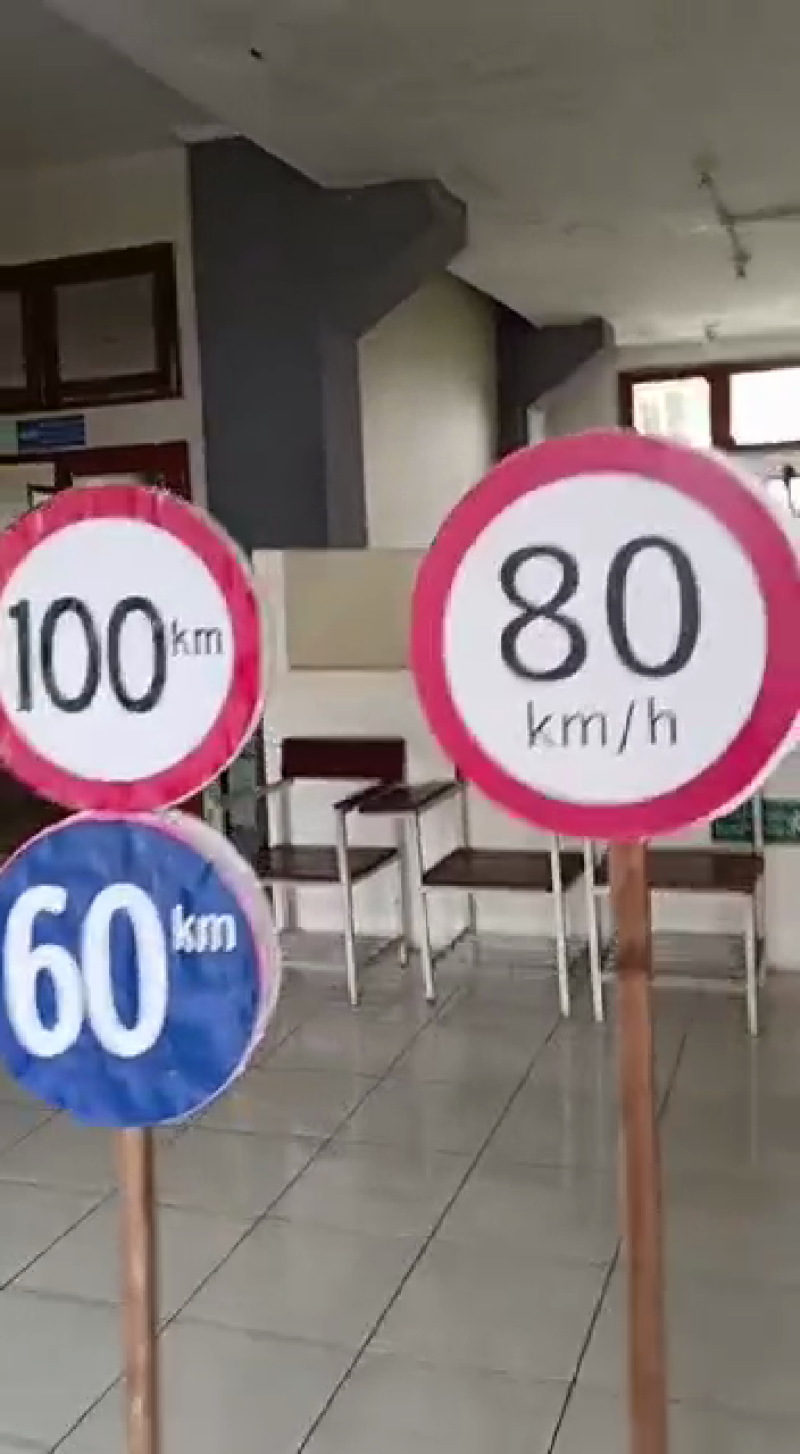batas maksimal 100kmperjam minimal 60kmperjam: (1, 486, 272, 1135)
batas maksimal 80kmperjam: (385, 432, 800, 838)
